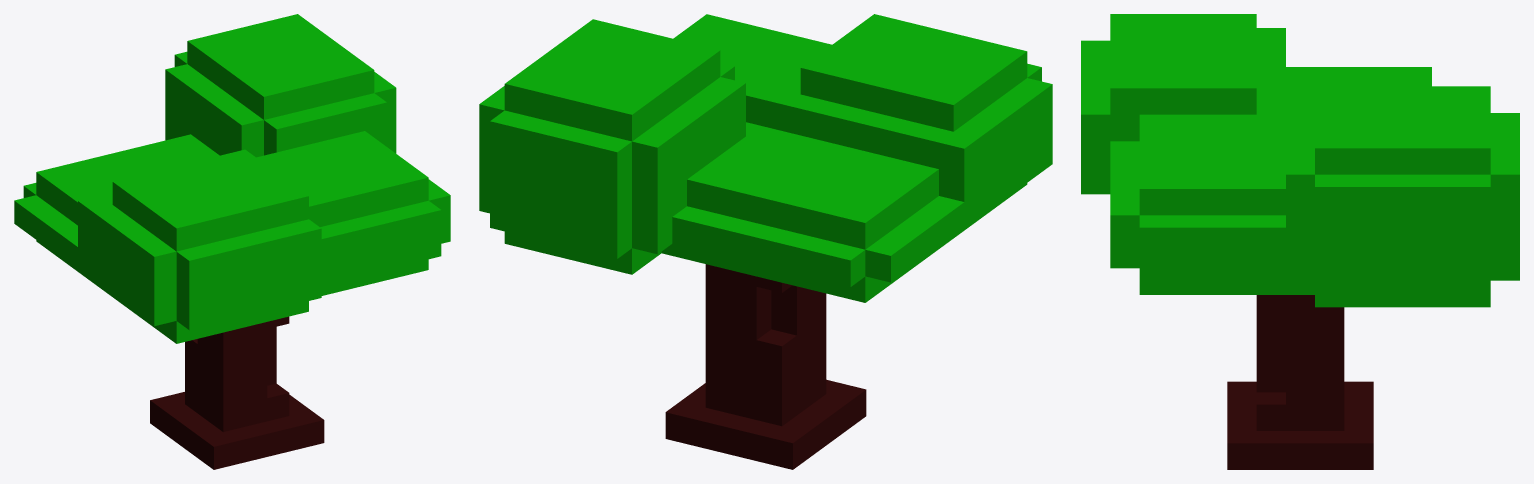
The model's file is Tree_2_1.fbx.
3 renders of one model, left to right at view 1: azimuth 30°, elevation 25°; view 2: azimuth 150°, elevation 25°; view 3: azimuth 270°, elevation 25°, orthographic. The views are drawn at different scales.
Visible parts, largest first — view 1: Tree_2_1; view 2: Tree_2_1; view 3: Tree_2_1.
Boxes of the visible parts, bbox=[...] form: Tree_2_1: bbox=[14, 14, 450, 469]; Tree_2_1: bbox=[479, 14, 1052, 469]; Tree_2_1: bbox=[1081, 14, 1519, 469].
Bounding box in the file's own units: 1500 × 1400 × 1500.
